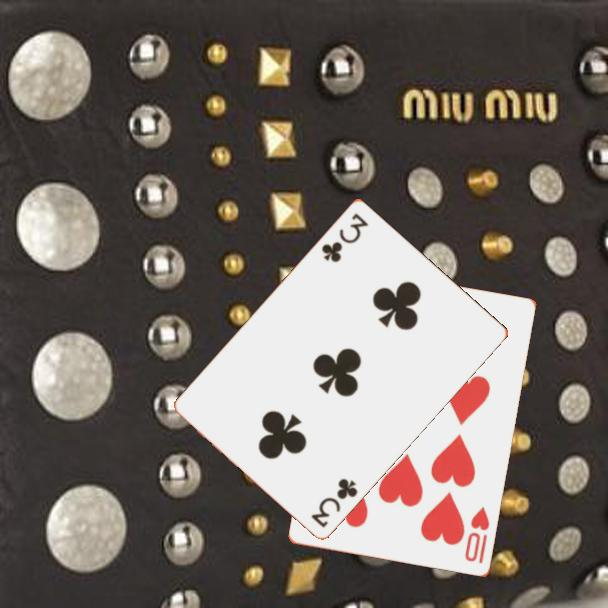c03: (318, 209, 372, 265), (307, 474, 361, 530)
h10: (461, 504, 493, 567)
